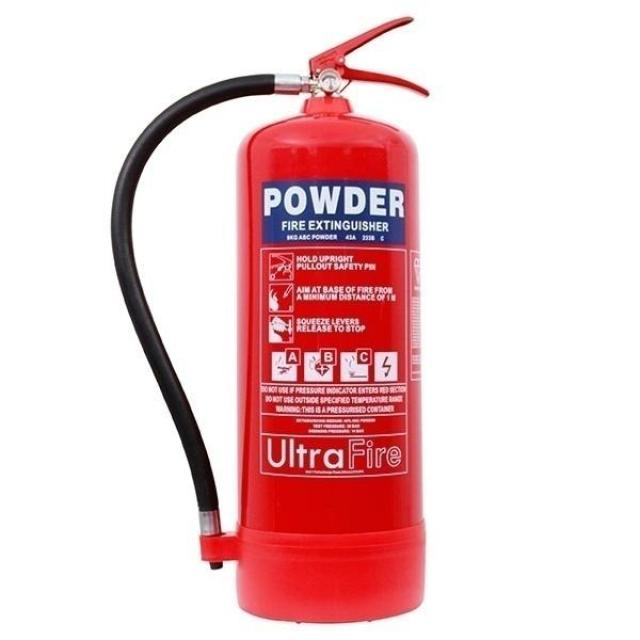fire_extinguisher: (105, 11, 433, 630)
